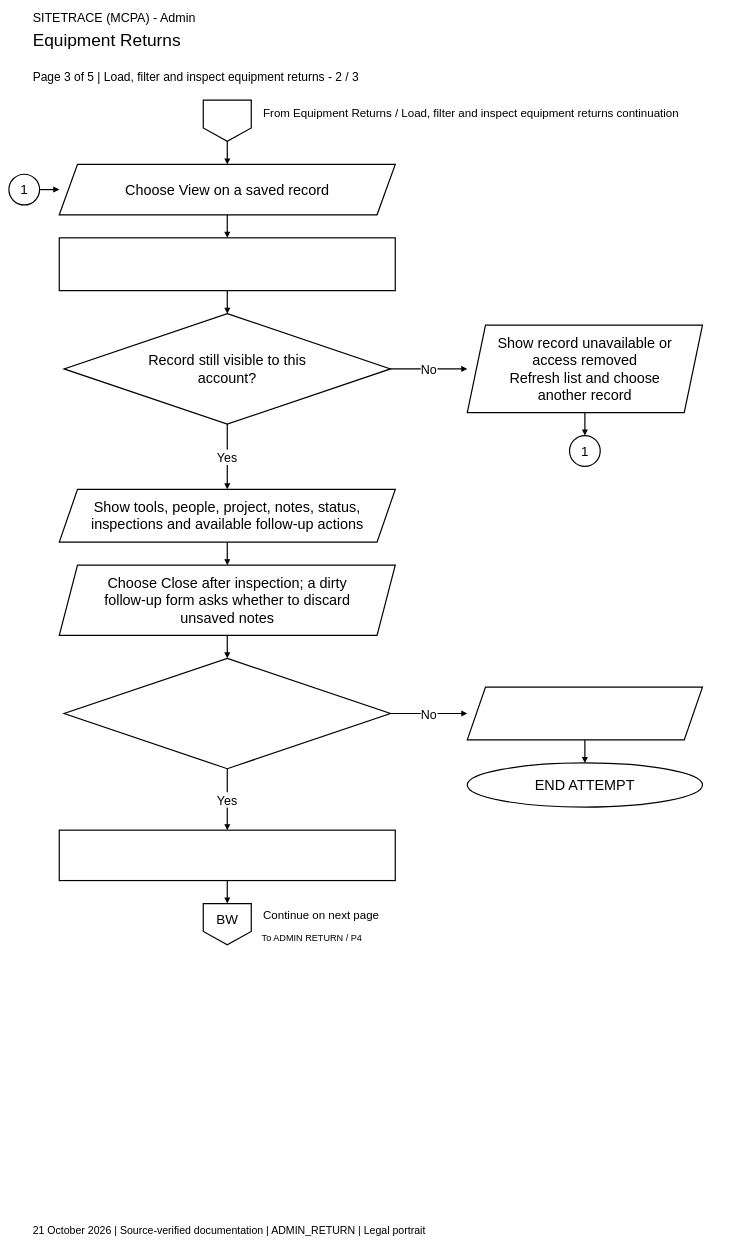
This 747x1248 diagram has some shape labels left out. Each missing label, with the centre of its shape:
BV: point 227,120
Close detail; restore list navigation/focus: point 227,855
Keep detail and unsaved inputs open: point 584,713
No unsaved notes, or discard confirmed?: point 227,713
Refresh snapshot; resolve return ID within visible records: point 227,264
